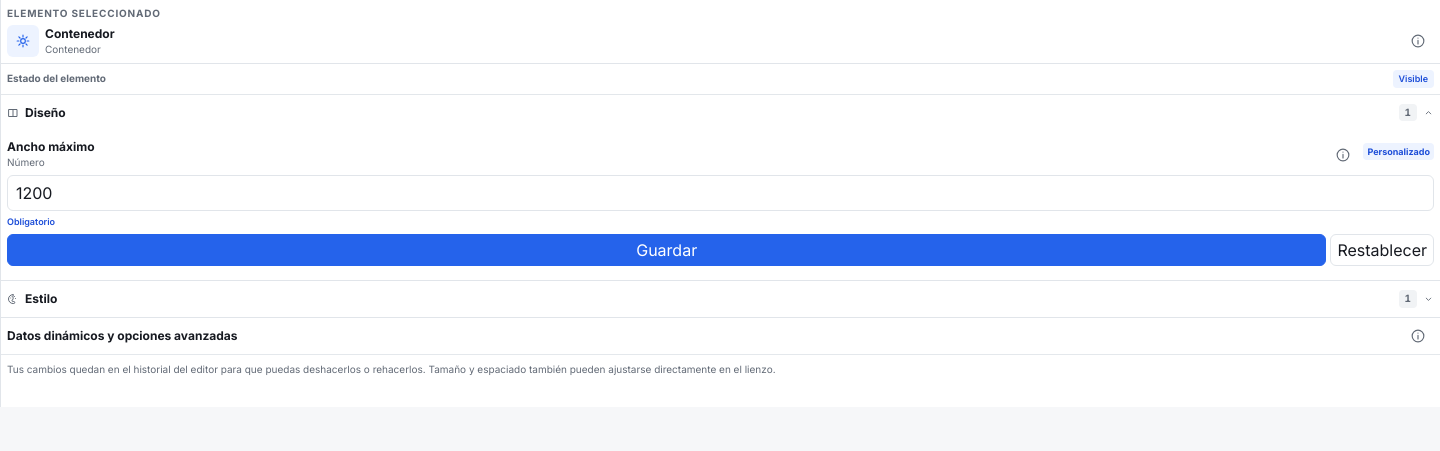
Test case: M07.1 inspector declarativo › muestra el error de validación junto al campo y lo anuncia
Step 1. Replace the text in the field labelled "Ancho máximo Número" with "-1" → {"x": 720, "y": 192}, box [7,174,1434,210]
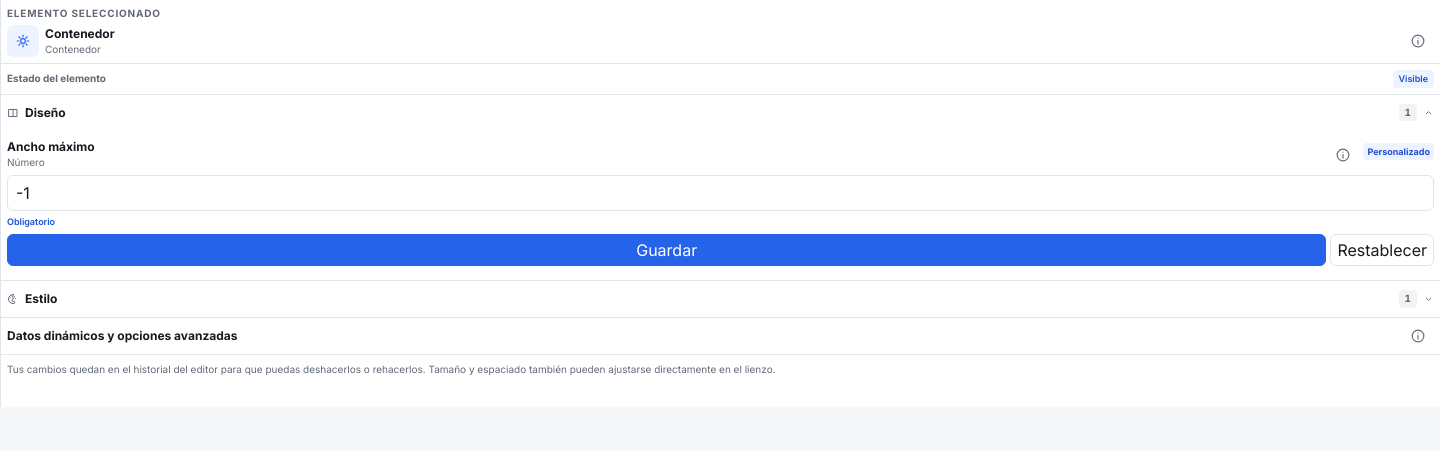
Step 2. Click the button "Guardar" → {"x": 667, "y": 250}, box [7,234,1326,266]
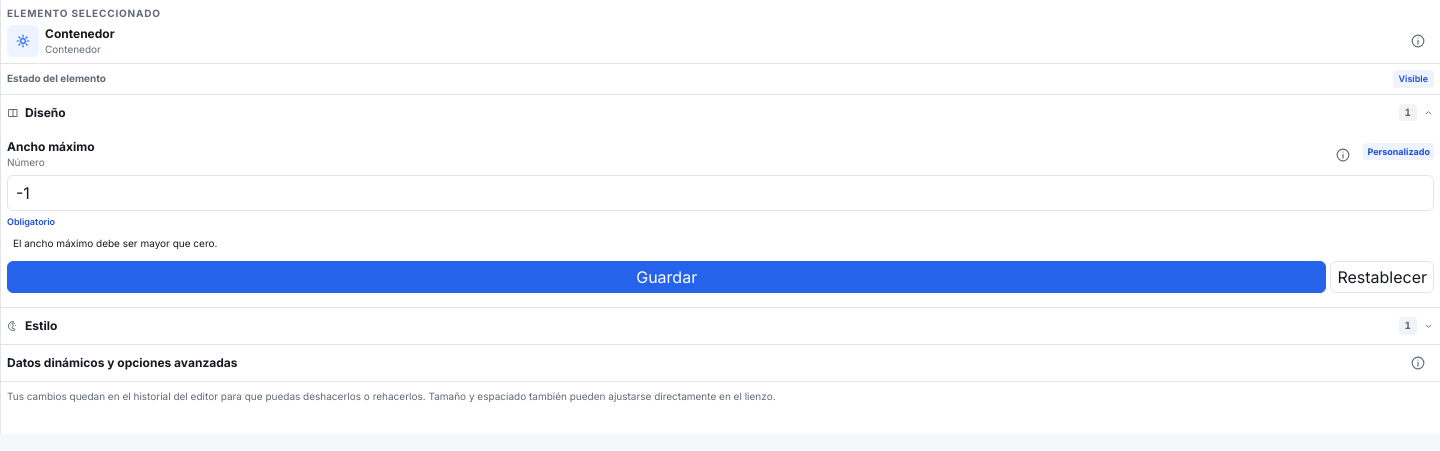
Now the message reads "El ancho máximo debe ser mayor que cero.", box [13,237,217,249]
